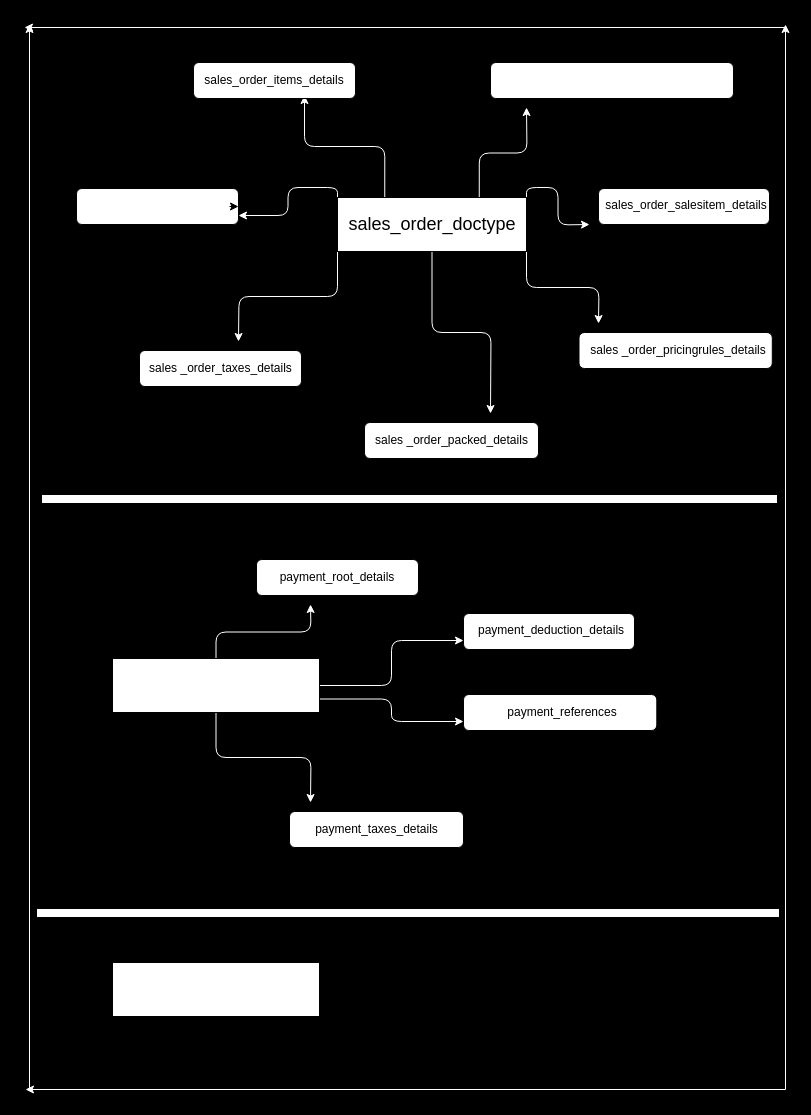
This 811x1115 diagram has some shape labels left out. Each missing label, with the centre of its shape:
"customer_doctype" goes at point (216, 989).
"payment_entry_doctype" goes at point (216, 685).
"sales _order_root_details" goes at point (157, 206).
"sales_order_paymentschedule_details" goes at point (612, 80).
